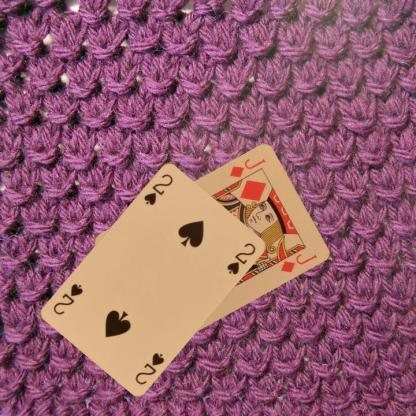2s: (140, 170, 174, 206), (132, 350, 166, 386)
Jd: (226, 156, 266, 180)
